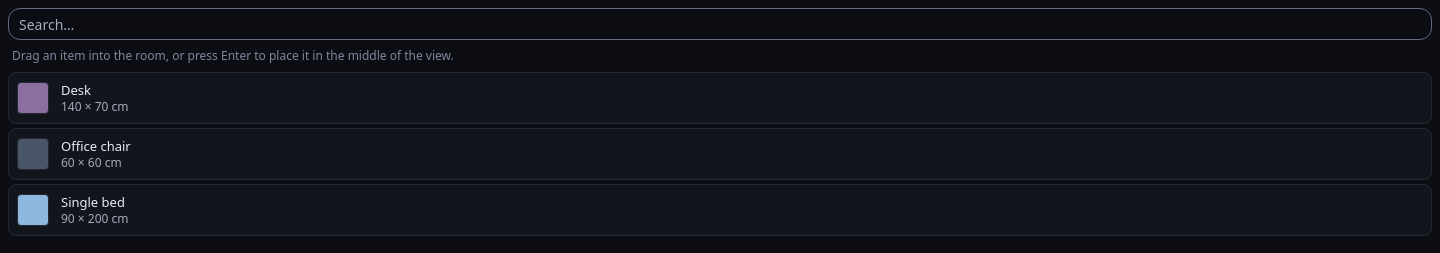
Test: CatalogPanel: list and search › says so when nothing matches
This screenshot has width=1440, height=253.
Type "zzz" into the search field at (720, 24), box x1=8 y1=8 x2=1432 y2=40
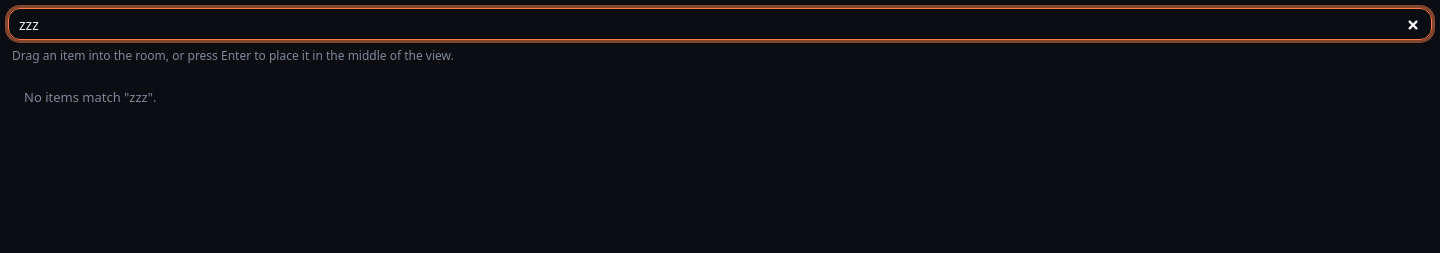
Now the list is gone
Now the text "No items match \"zzz\"." is shown, box x1=24 y1=88 x2=156 y2=106
